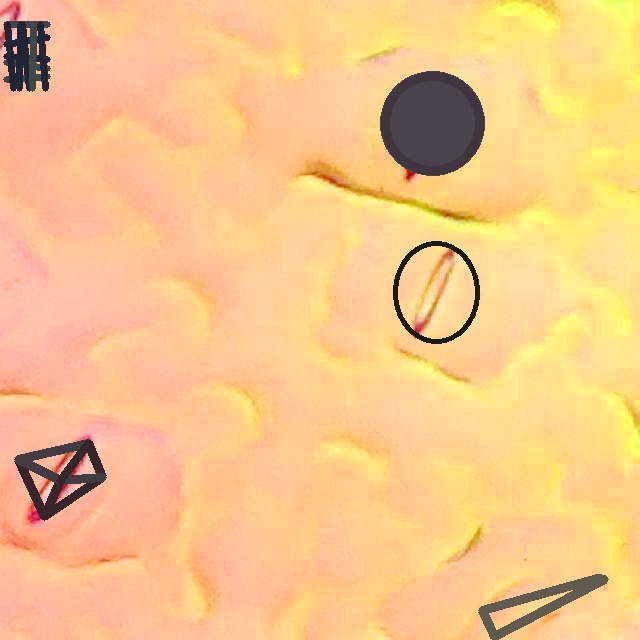close: (478, 574, 608, 639)
open: (381, 70, 484, 175), (393, 240, 480, 345), (14, 439, 106, 520), (3, 21, 50, 91)
